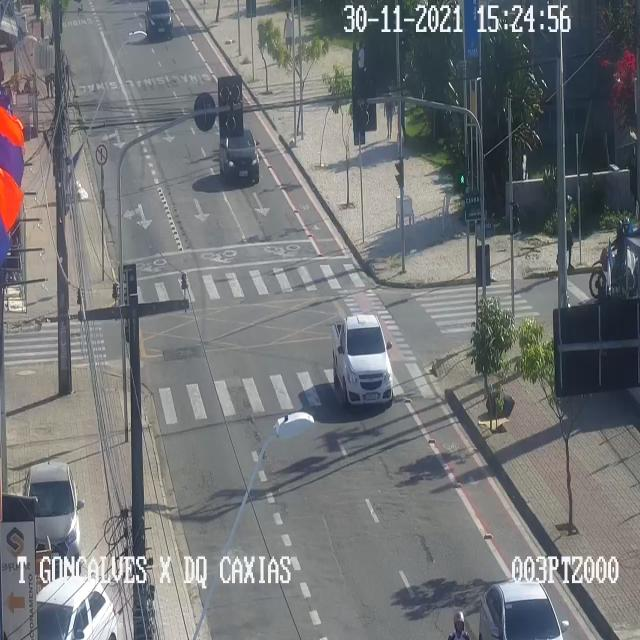Car: (24, 460, 83, 569), (332, 314, 394, 409), (479, 581, 569, 639), (35, 578, 117, 639), (217, 128, 260, 179), (146, 2, 174, 37)
Motorcycle: (588, 218, 640, 300), (442, 600, 475, 640)
